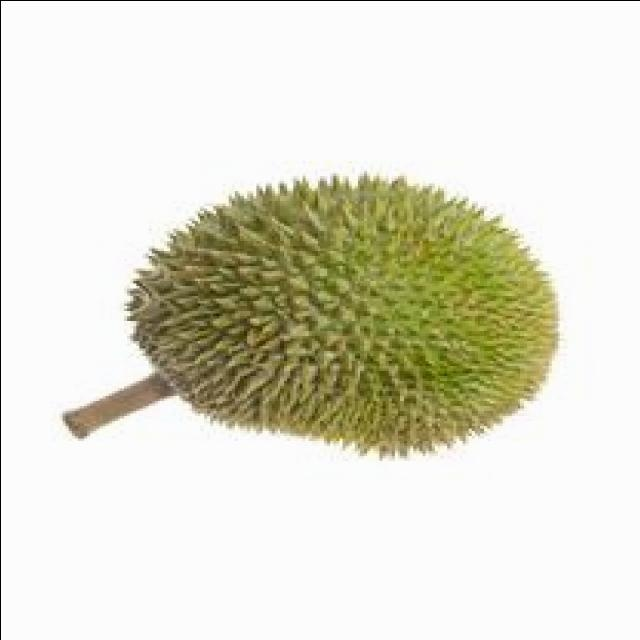agrume: (101, 153, 547, 485)
